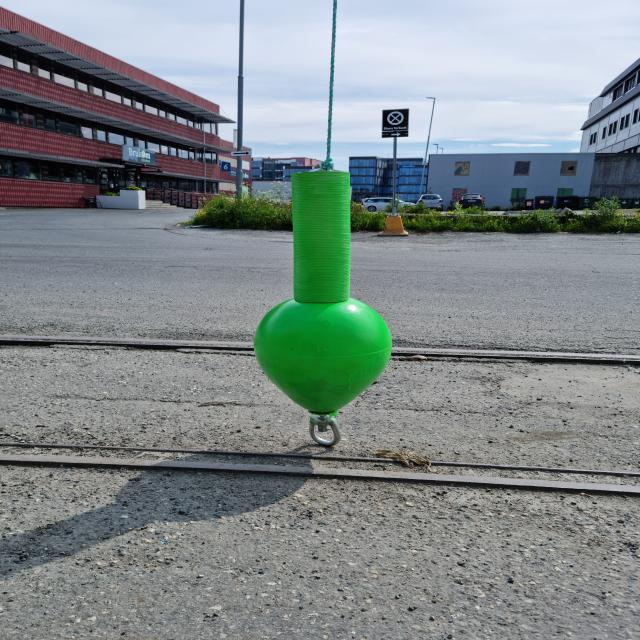green: (252, 166, 394, 415)
